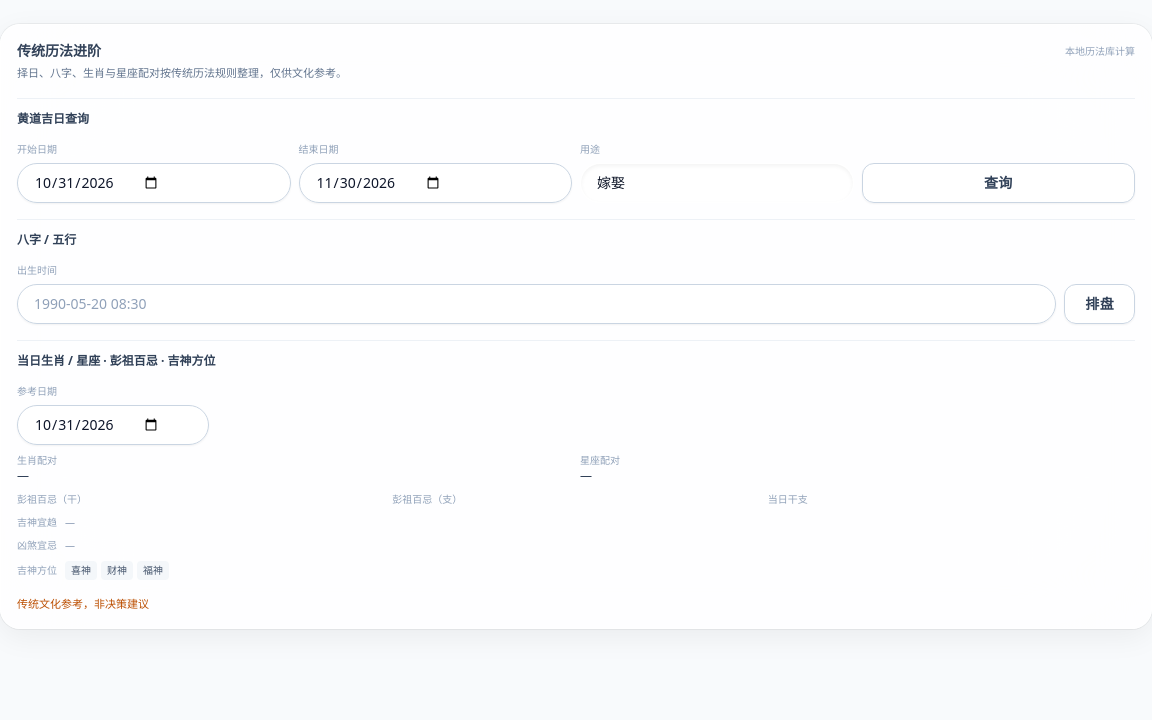
AlmanacAdvancedPanel (plan todo 150) › degrades an out-of-range 择日 year to 数据不可用
This screenshot has width=1152, height=720.
Type "1800-01-01" into the date field labelled "开始日期".
click(154, 182); type("1800-01-01")  # box [17, 162, 290, 202]
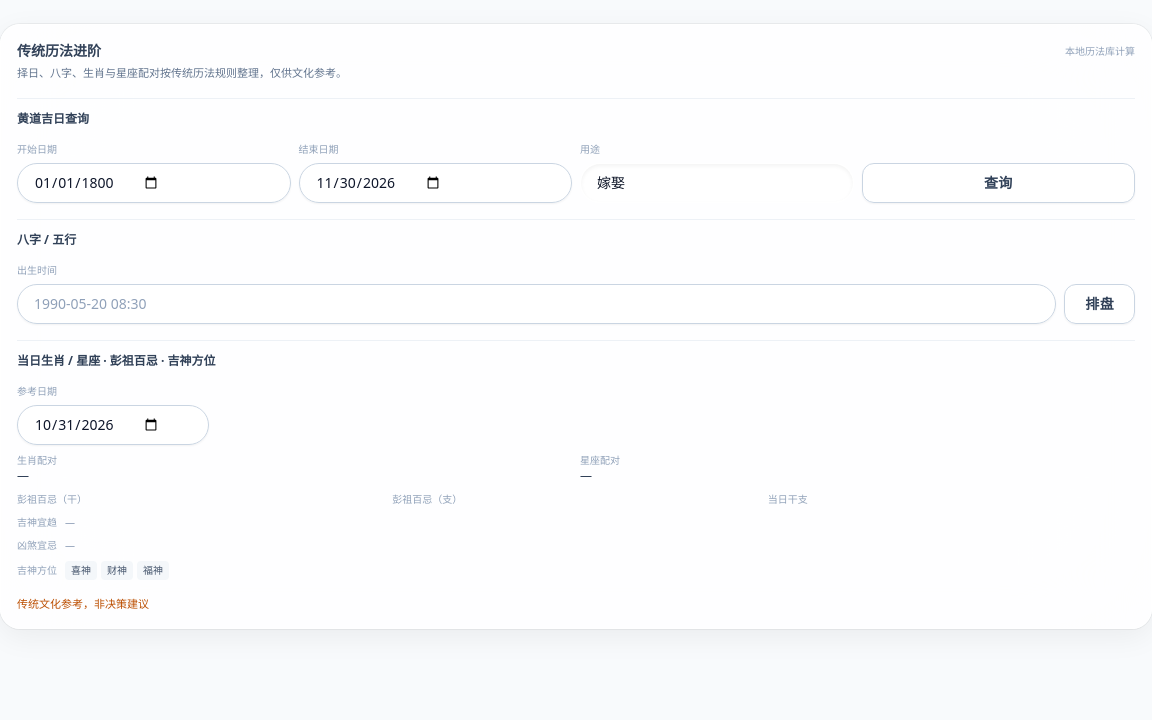
Type "1800-01-31" into the date field labelled "结束日期".
click(435, 182); type("1800-01-31")  # box [298, 162, 572, 202]
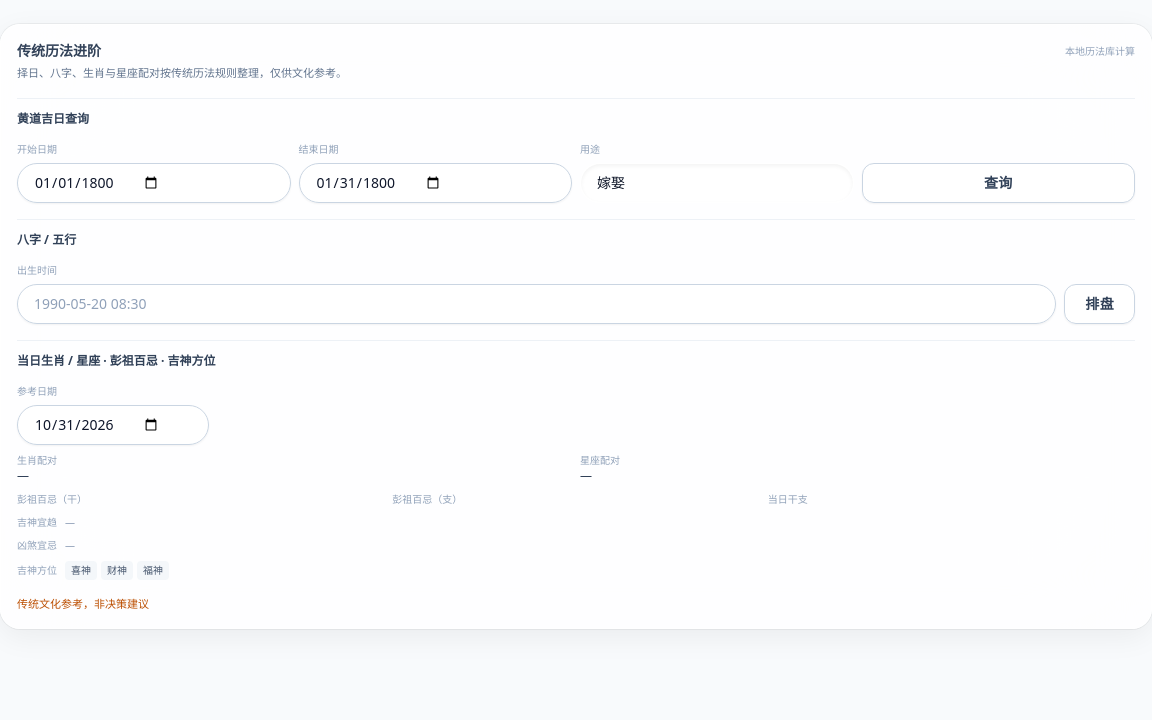
Click the button "查询".
click(998, 182)  # box [862, 162, 1135, 202]
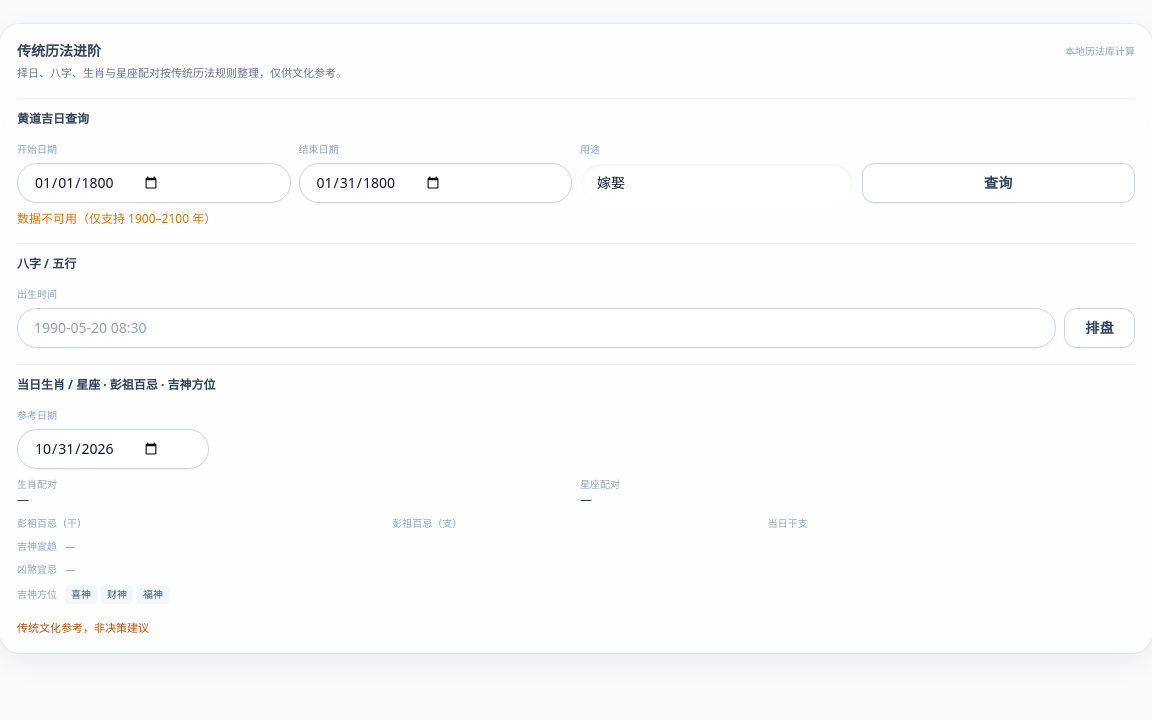
Expected: the text with test id "auspicious-error" shows "数据不可用", [17, 210, 216, 226]
